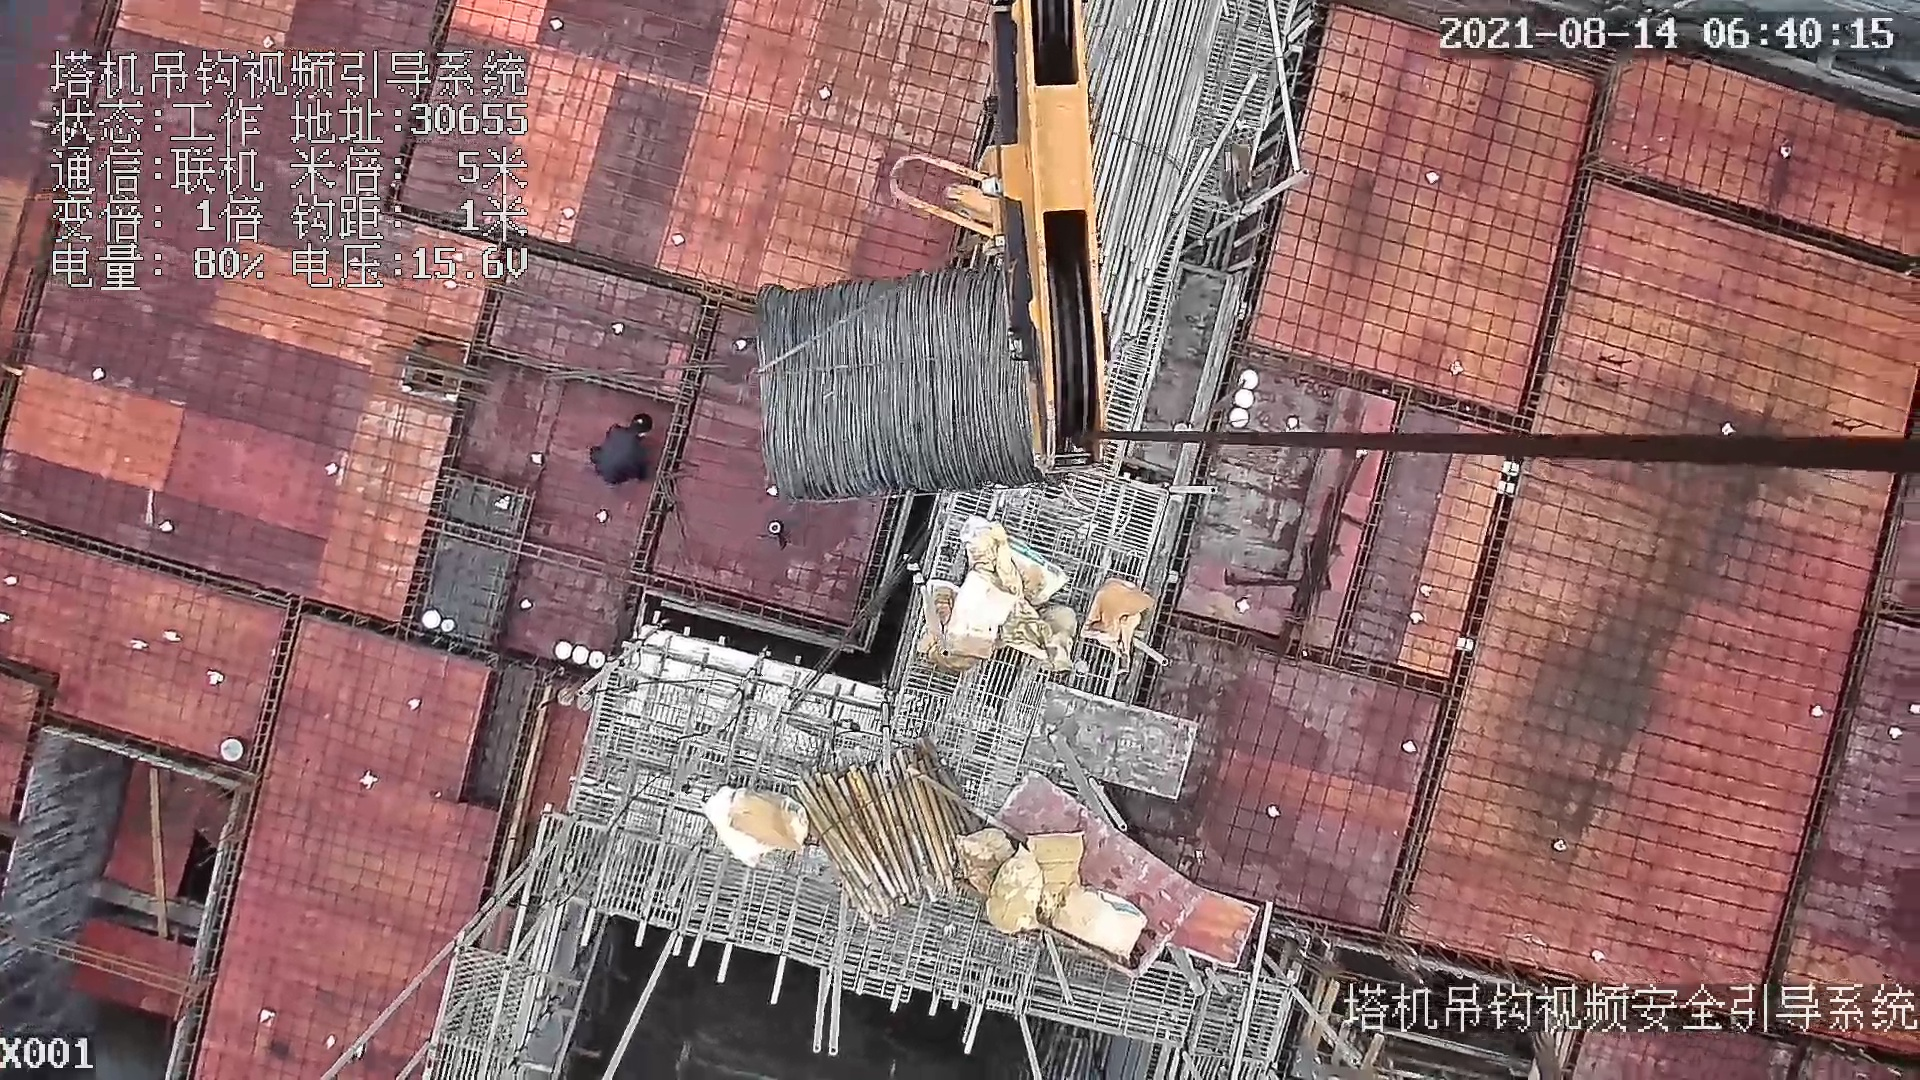hook: (876, 1, 1117, 482)
person: (585, 406, 655, 491)
scaffold: (799, 745, 970, 900)
